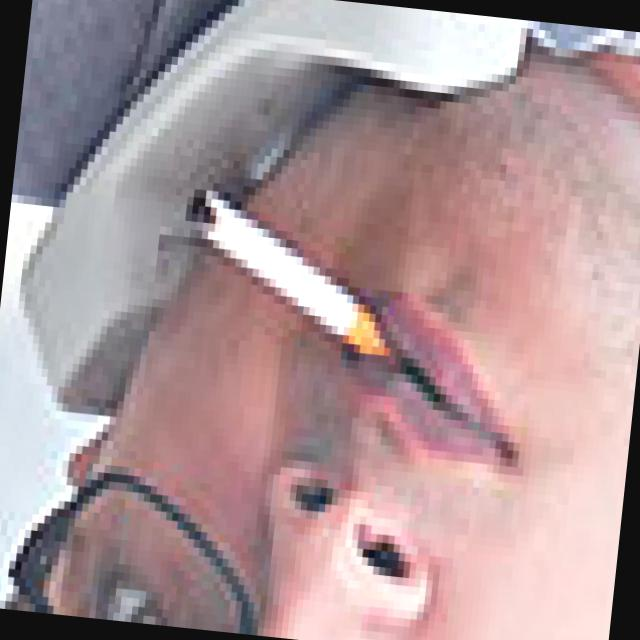smoke: (171, 186, 397, 367)
